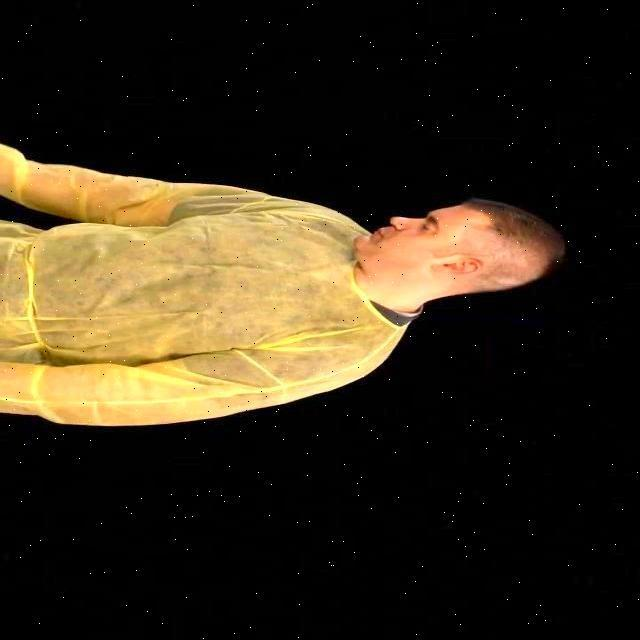no_gloves: (464, 203, 562, 293)
